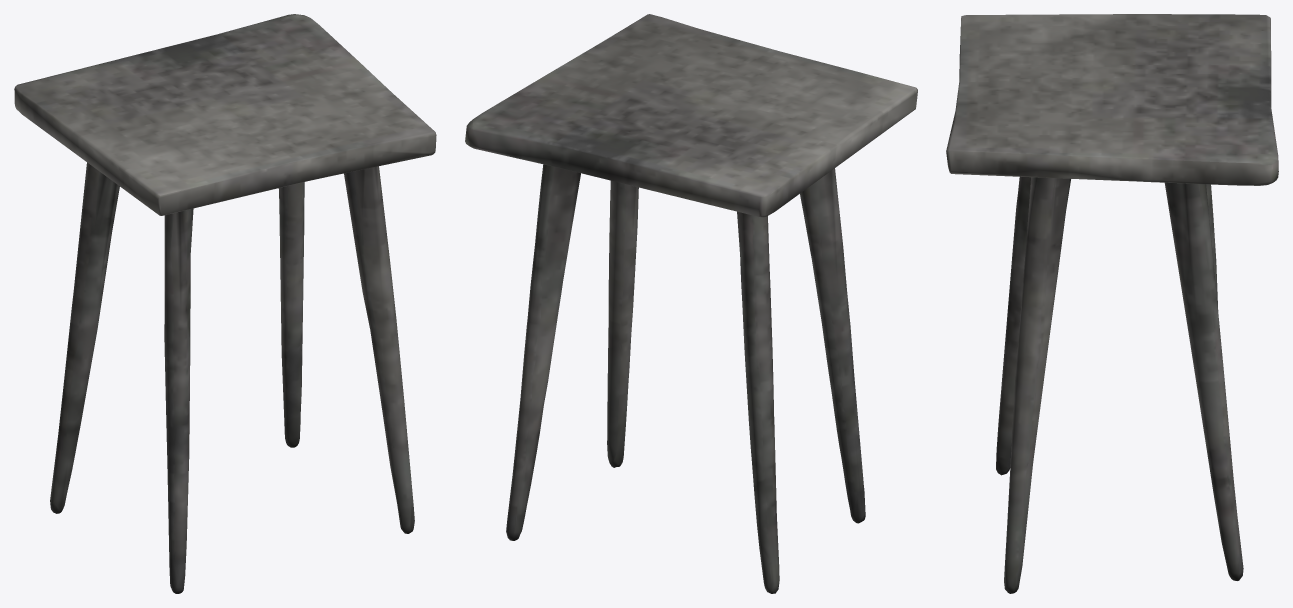
Rendered from ancient-granite-table-v001.glb.
3 renders of one model, left to right at view 1: azimuth 30°, elevation 25°; view 2: azimuth 150°, elevation 25°; view 3: azimuth 270°, elevation 25°, orthographic. The views are drawn at different scales.
Parts seen in each view (by area): view 1: ancient-granite-table; view 2: ancient-granite-table; view 3: ancient-granite-table.
Boxes of the visible parts, x1,y1,x2,y2 form: ancient-granite-table: (14,14,436,593); ancient-granite-table: (465,14,917,593); ancient-granite-table: (946,14,1278,593).
Bounding box in the file's own units: 0.5481 × 0.7492 × 0.5102.
Materials: 1 (1 with a texture image).
